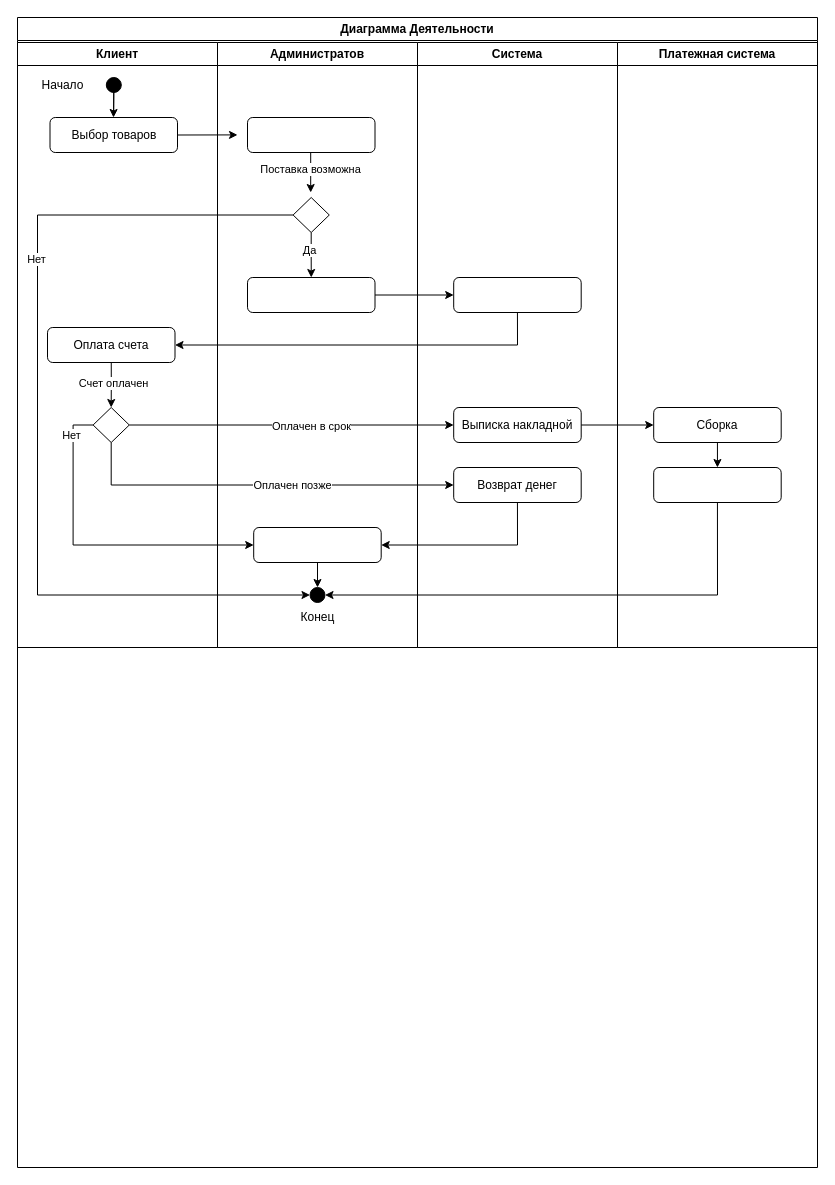
Image size: 835x1185. Some labels were removed from this diagram. Each missing label, with the centre of its shape:
"Определение наличия товара" belongs at point (310, 134).
"Отгрузка" belongs at point (717, 484).
"Отмена заказа" belongs at point (317, 544).
"Оформление счета" belongs at point (517, 294).
"Создание заказа" belongs at point (310, 294).
